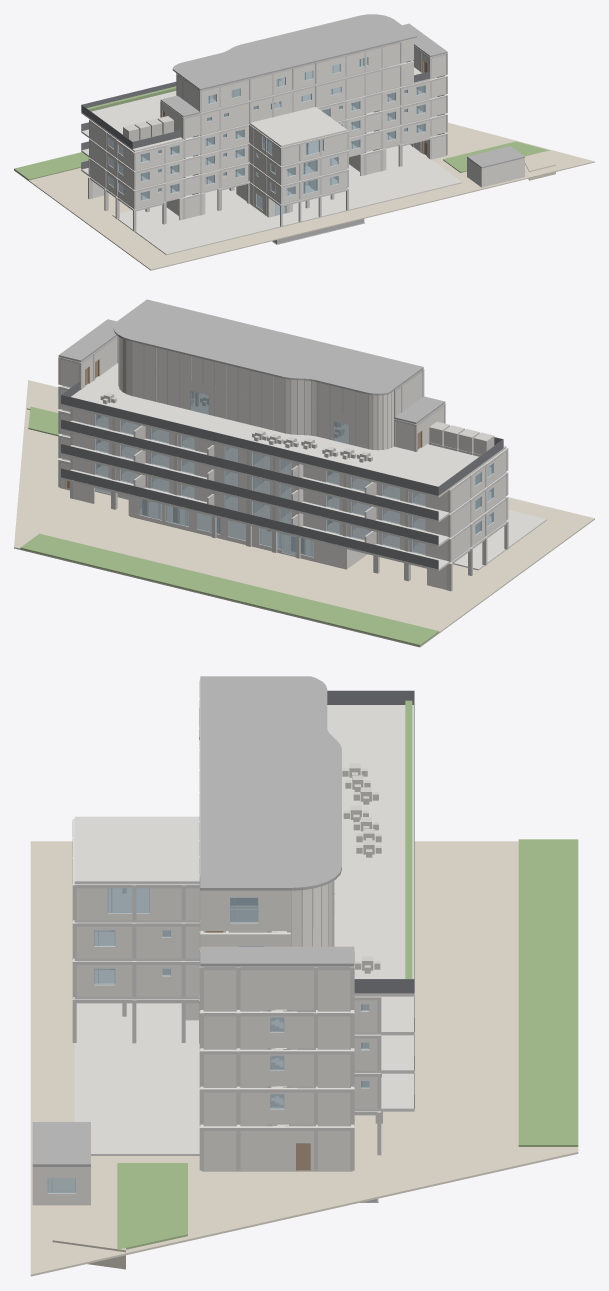
The model's file is kov-arch.glb.
The picture shows the model from 3 angles, top to bottom: view 1: azimuth 30°, elevation 25°; view 2: azimuth 150°, elevation 25°; view 3: azimuth 270°, elevation 25°; orthographic projection. The views are drawn at different scales.
Visible parts, largest first — view 1: A|0|site, A|0|slab, A|6|roof, A|3|wall, A|2|wall, A|1|wall, A|4|wall, A|4|slab, A|5|wall, A|0|wall, A|0|struct, A|0|lawn (+16 smaller); view 2: A|0|site, A|6|roof, A|4|wall, A|4|slab, A|0|lawn, A|5|wall, A|4|rail, A|4|proxy, A|3|wall, A|2|wall, A|1|rail, A|2|rail (+18 smaller); view 3: A|0|site, A|6|roof, A|0|lawn, A|4|slab, A|0|slab, A|2|wall, A|1|wall, A|3|wall, A|4|wall, A|0|wall, A|5|wall, A|0|struct (+10 smaller).
Boxes of the visible parts, <box> form: A|0|site: <box>14,122,594,270</box>; A|0|slab: <box>112,144,462,255</box>; A|6|roof: <box>160,14,524,168</box>; A|3|wall: <box>89,75,447,169</box>; A|2|wall: <box>89,94,447,188</box>; A|1|wall: <box>89,113,447,207</box>; A|4|wall: <box>161,47,445,138</box>; A|4|slab: <box>81,67,430,151</box>; A|5|wall: <box>177,38,413,111</box>; A|0|wall: <box>89,132,524,220</box>; A|0|struct: <box>88,133,447,231</box>; A|0|lawn: <box>14,86,549,180</box>; A|0|site: <box>14,380,594,647</box>; A|6|roof: <box>58,299,445,424</box>; A|4|wall: <box>60,338,443,451</box>; A|4|slab: <box>61,363,506,497</box>; A|0|lawn: <box>20,406,439,646</box>; A|5|wall: <box>118,337,422,420</box>; A|4|rail: <box>61,381,503,495</box>; A|4|proxy: <box>100,357,494,462</box>; A|3|wall: <box>59,384,507,511</box>; A|2|wall: <box>59,409,507,536</box>; A|1|rail: <box>61,468,438,569</box>; A|2|rail: <box>61,444,438,544</box>; A|0|site: <box>30,841,578,1276</box>; A|6|roof: <box>32,676,354,1166</box>; A|0|lawn: <box>117,700,578,1251</box>; A|4|slab: <box>74,705,414,1012</box>; A|0|slab: <box>74,1003,352,1171</box>; A|2|wall: <box>73,920,380,1086</box>; A|1|wall: <box>73,958,380,1124</box>; A|3|wall: <box>73,819,380,1047</box>; A|4|wall: <box>200,909,350,1009</box>; A|0|wall: <box>32,1003,380,1205</box>; A|5|wall: <box>200,881,333,930</box>; A|0|struct: <box>72,997,382,1170</box>.
Bounding box in the file's own units: 72.83 × 21.55 × 38.91.
